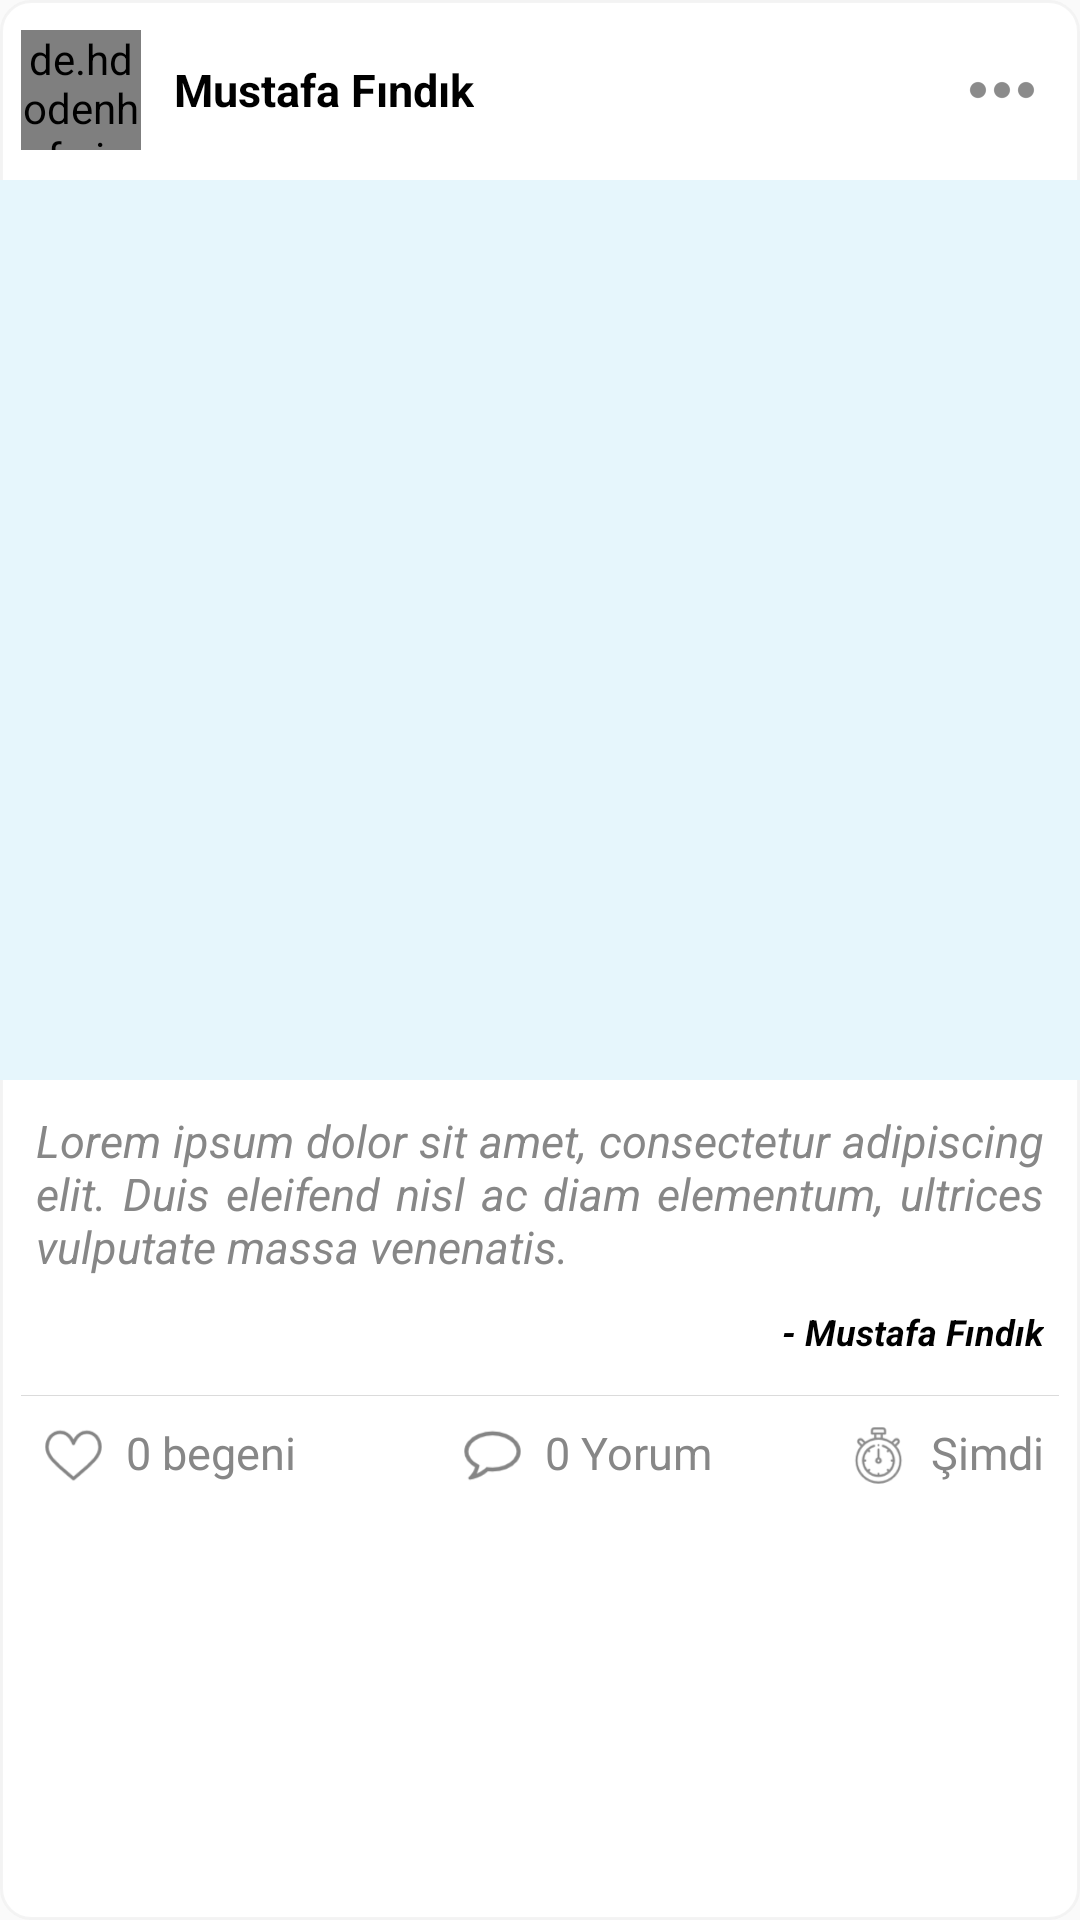

Icon bounding boxes for this 1080px x 1920px phone screenshot, format (x1, y1, x2, y2):
comment: (464, 1431, 521, 1480)
date: (855, 1427, 902, 1484)
like empty: (45, 1430, 102, 1481)
menu: (970, 82, 1034, 98)
